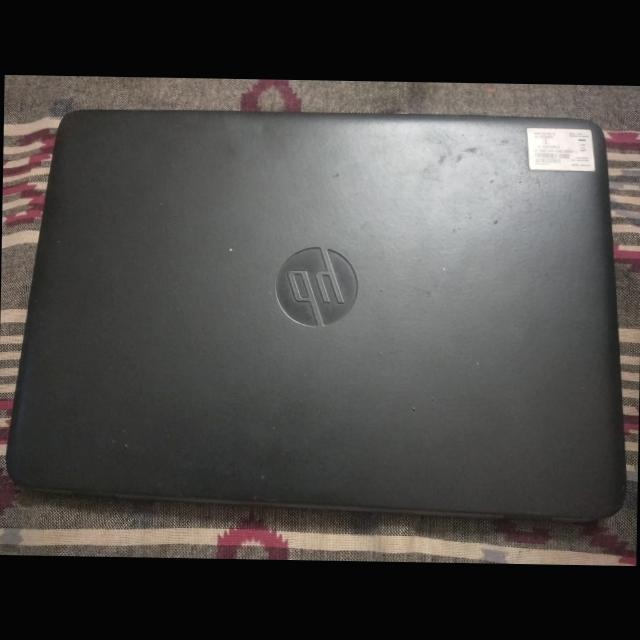laptop: (0, 86, 637, 533)
